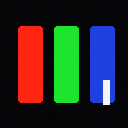4 line_v: (103, 80, 109, 104)
